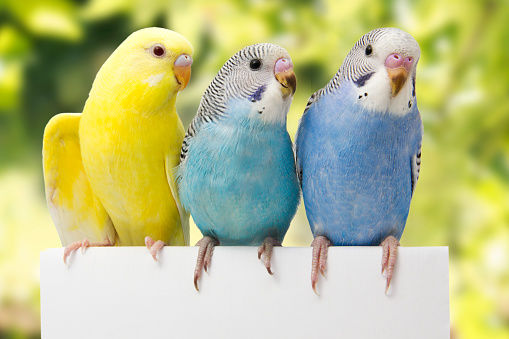budgie: (43, 18, 195, 266), (295, 23, 427, 300), (181, 38, 301, 283)
